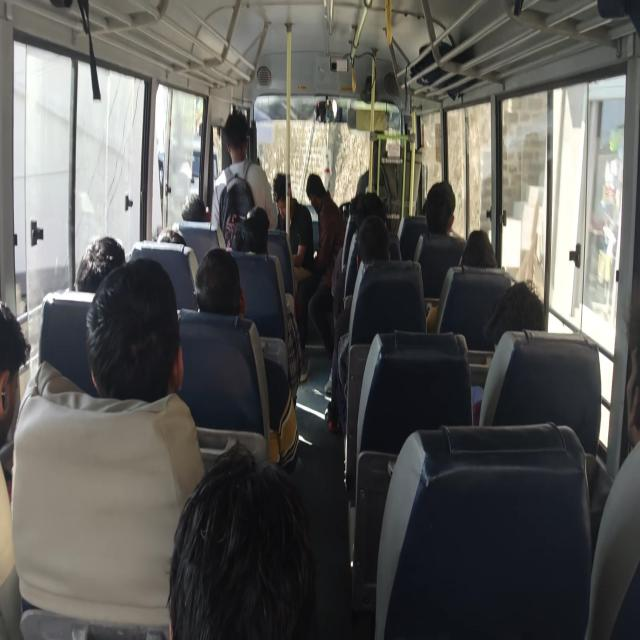person: (177, 490, 315, 640), (100, 266, 180, 404), (200, 245, 280, 321), (597, 325, 640, 446), (0, 297, 33, 404), (81, 233, 133, 300), (418, 186, 470, 250), (490, 287, 536, 343), (223, 108, 262, 173), (312, 166, 344, 235), (463, 234, 501, 290), (354, 233, 395, 284), (149, 224, 197, 266), (354, 188, 390, 232), (230, 219, 262, 264), (282, 160, 300, 225), (176, 192, 205, 228), (247, 200, 273, 234)
